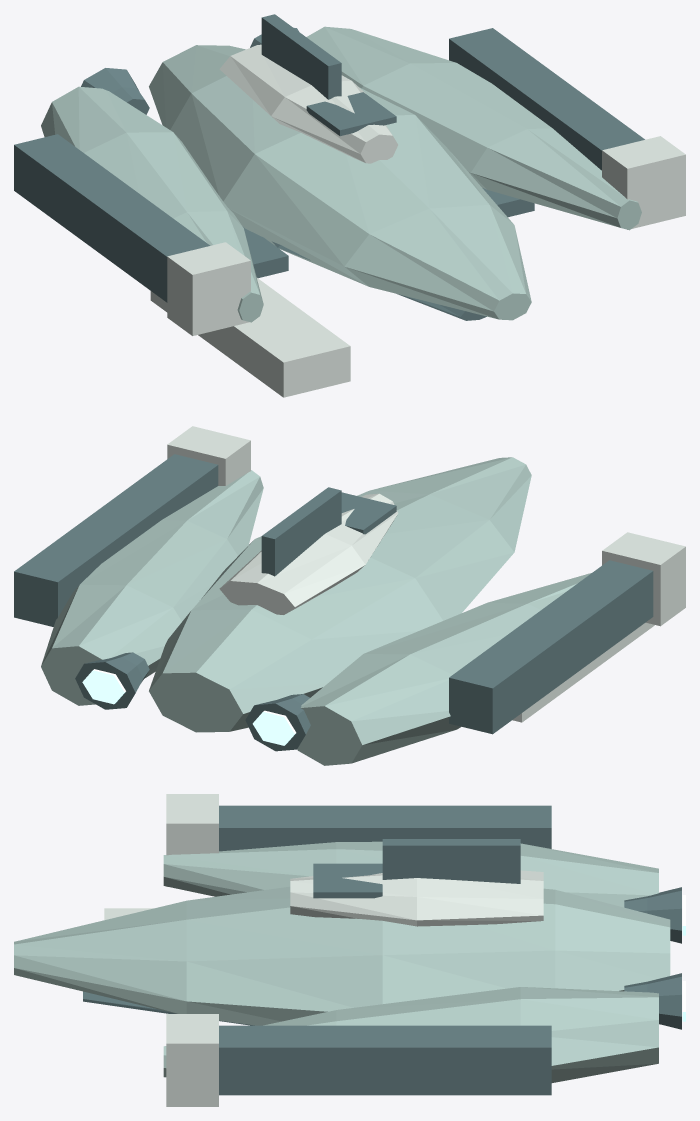
The picture shows the model from 3 angles, top to bottom: view 1: azimuth 30°, elevation 25°; view 2: azimuth 150°, elevation 25°; view 3: azimuth 270°, elevation 25°; orthographic projection. The views are drawn at different scales.
Size of the model in its own units: 13.49 by 4.95 by 15.36.
